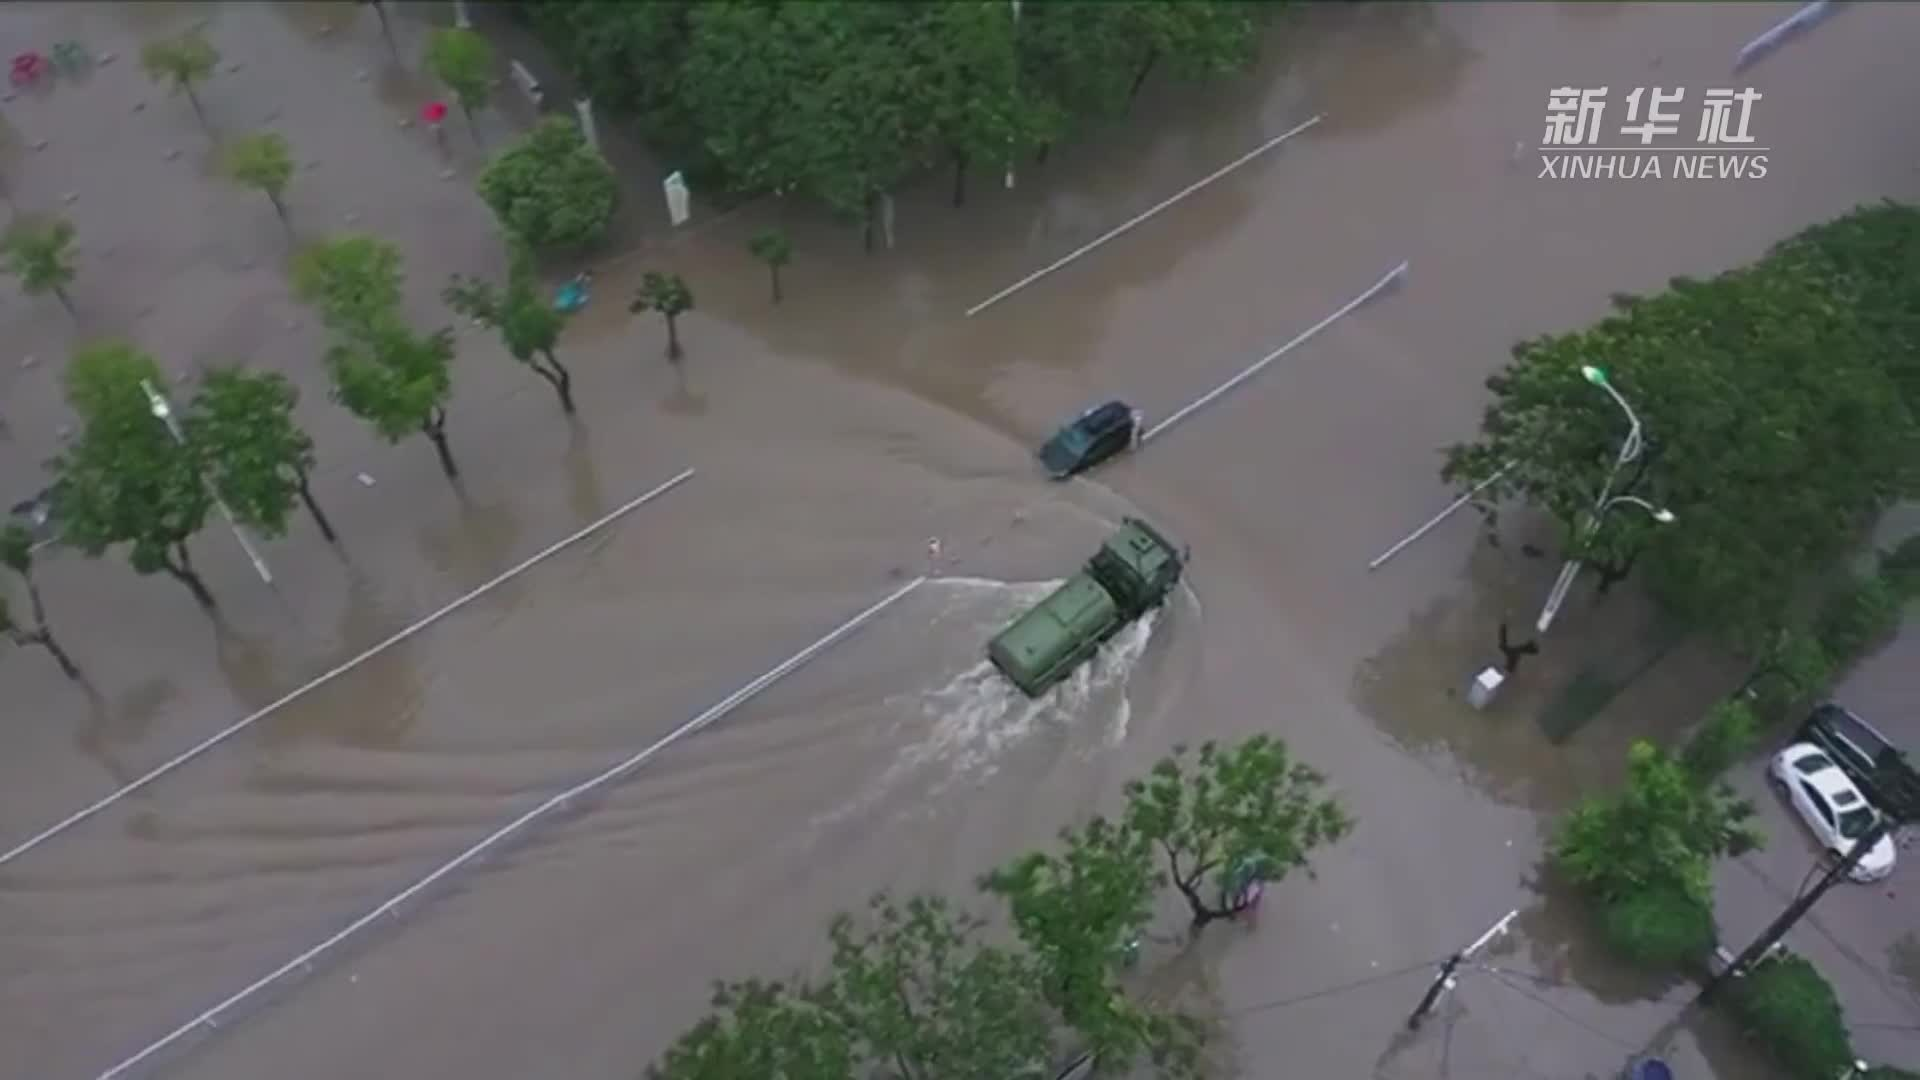puddle: (315, 255, 1462, 828)
